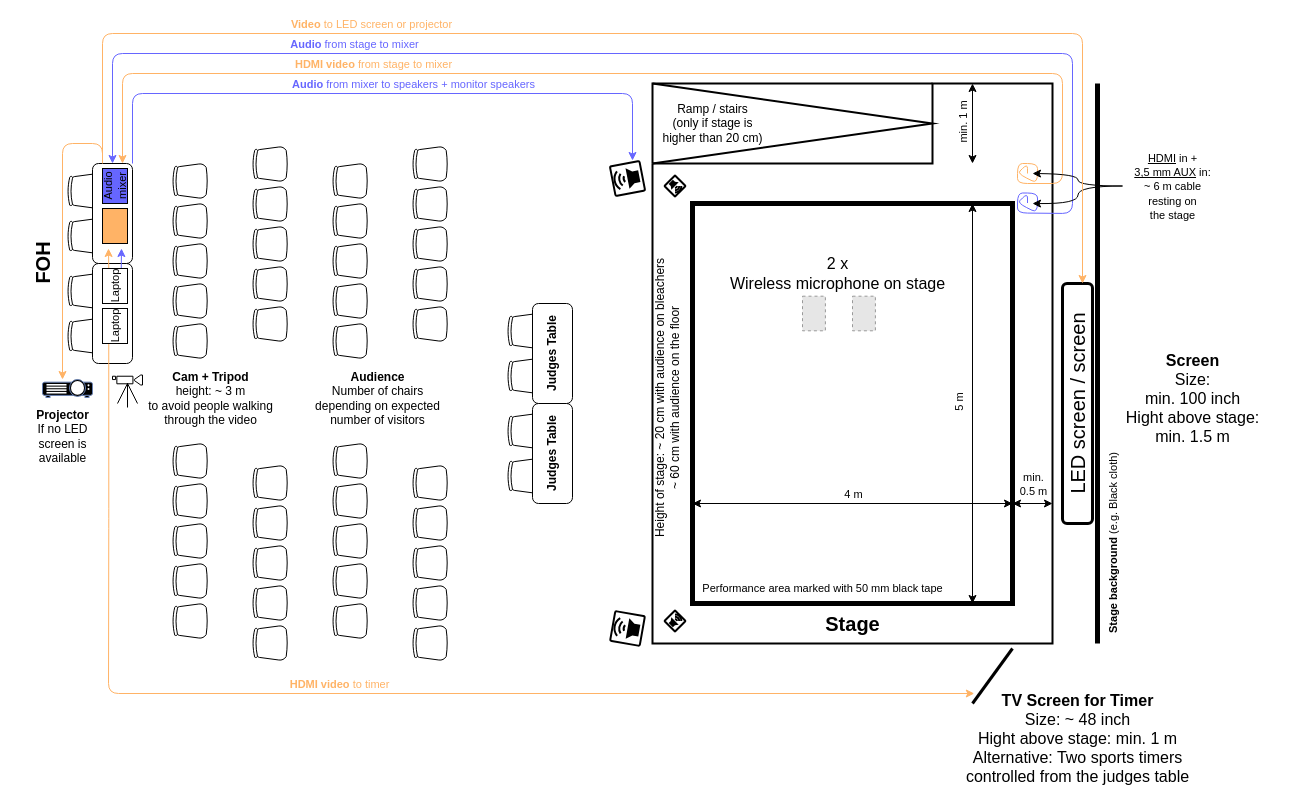
Image size: 1289x810. Some labels were removed from this diagram. Grey dashed boxes stand in for pictures. The box of each missing label's shape, as (x1, y1, x2, y2) in pixels:
HDMI mixer: (102, 208, 128, 244)
Performance Area White floor: (690, 200, 1014, 606)
